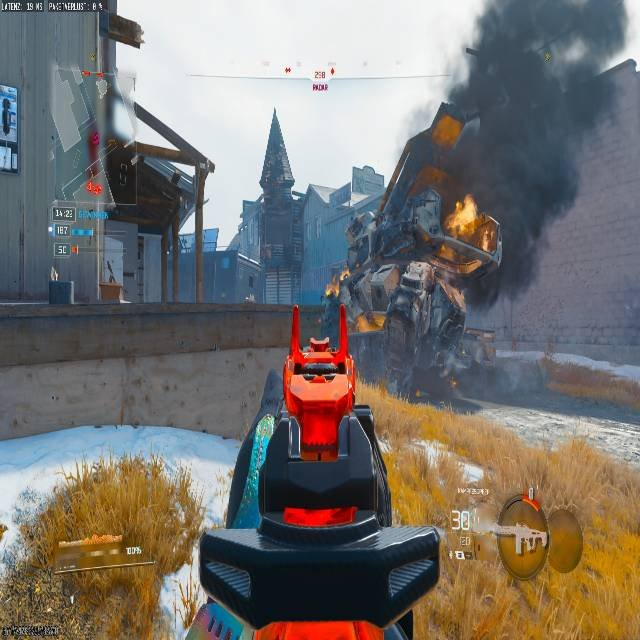player: (327, 191, 501, 403)
